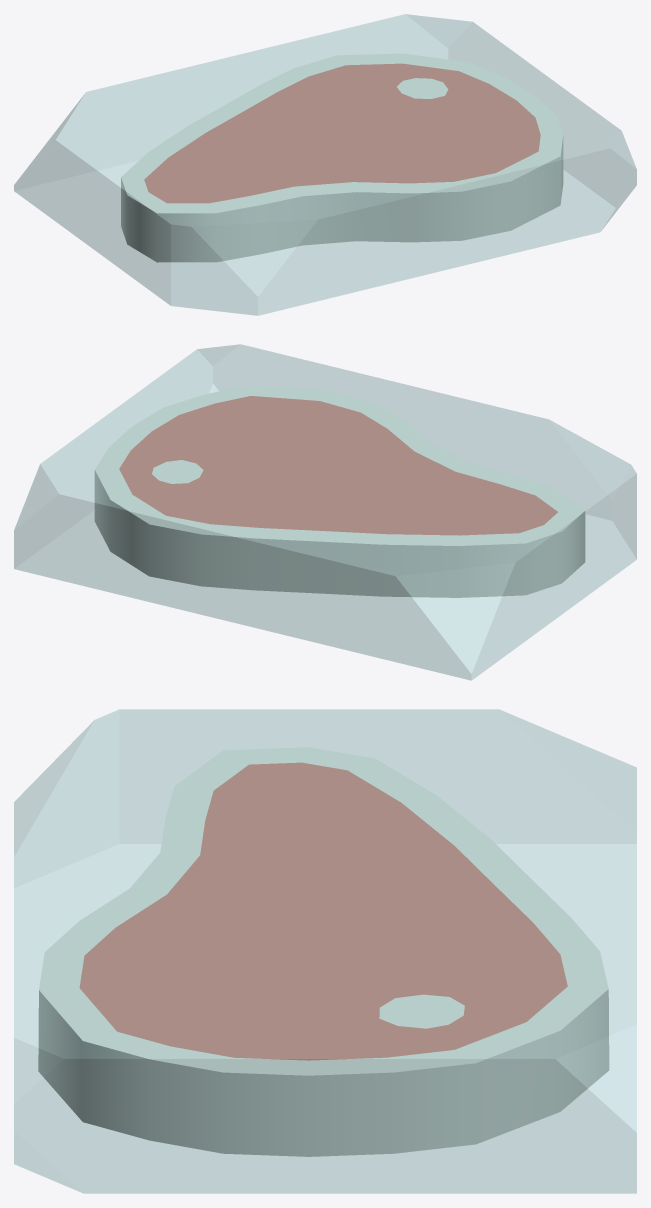
The model's file is meat_frozen.glb.
The picture shows the model from 3 angles, top to bottom: view 1: azimuth 30°, elevation 25°; view 2: azimuth 150°, elevation 25°; view 3: azimuth 270°, elevation 25°; orthographic projection. The views are drawn at different scales.
Visible parts, largest first — view 1: meat_frozen; view 2: meat_frozen; view 3: meat_frozen.
Boxes of the visible parts, box(x1,y1,x2,y2) form: meat_frozen: box(14, 14, 636, 315); meat_frozen: box(14, 344, 636, 680); meat_frozen: box(14, 709, 636, 1193).
Bounding box in the file's own units: 0.5195 × 0.0933 × 0.3913.
